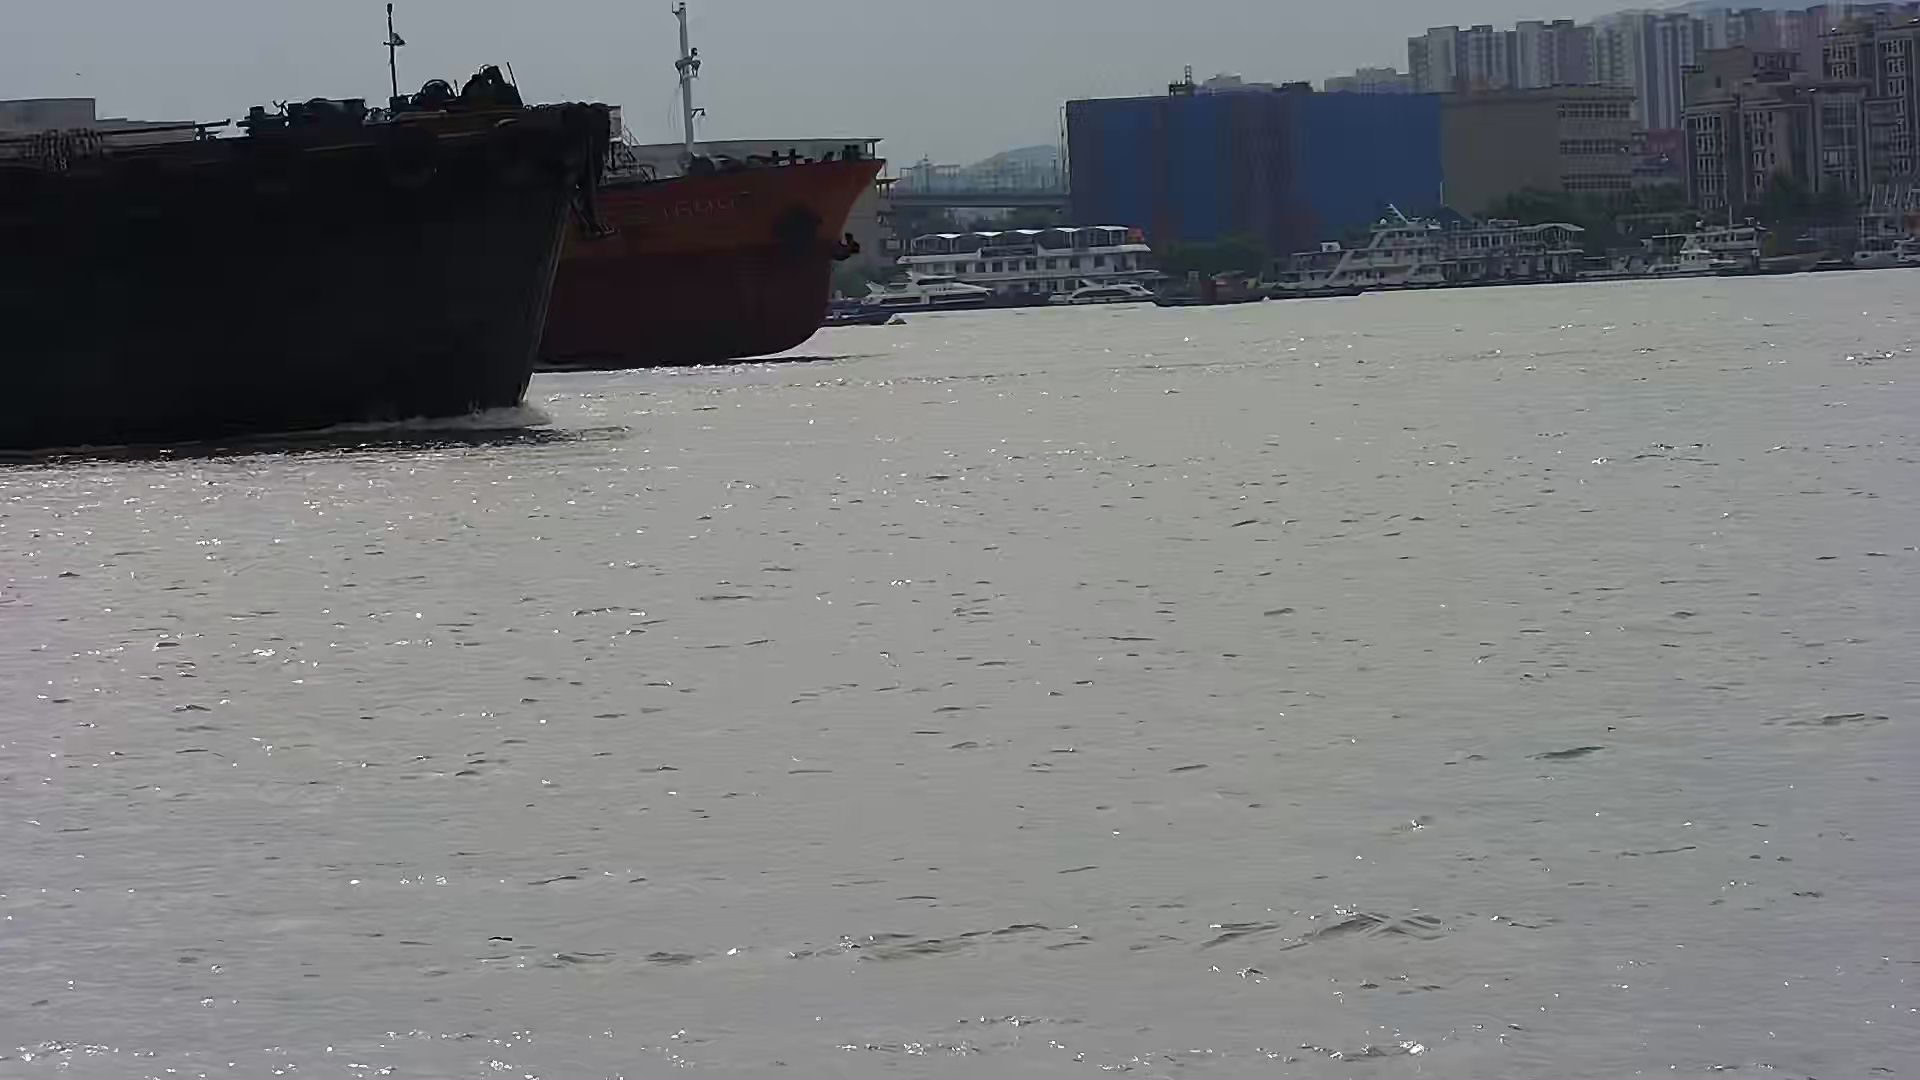boat: (1153, 280, 1255, 309), (828, 298, 891, 324)
ship: (1, 1, 600, 454), (538, 3, 887, 378), (1275, 218, 1468, 295), (860, 272, 1046, 313), (1069, 270, 1150, 305)
